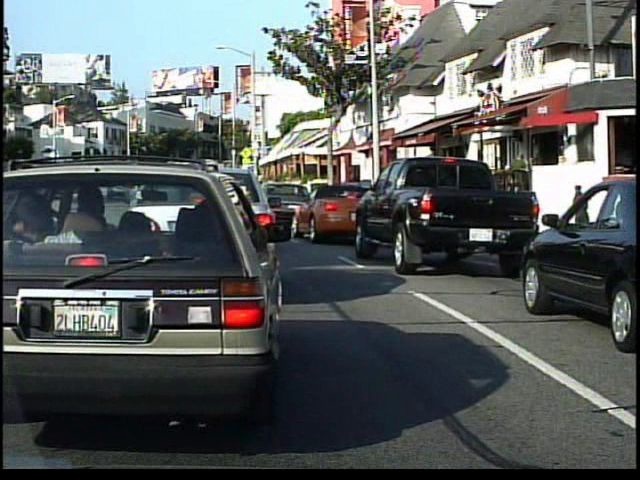person: (506, 149, 531, 202)
